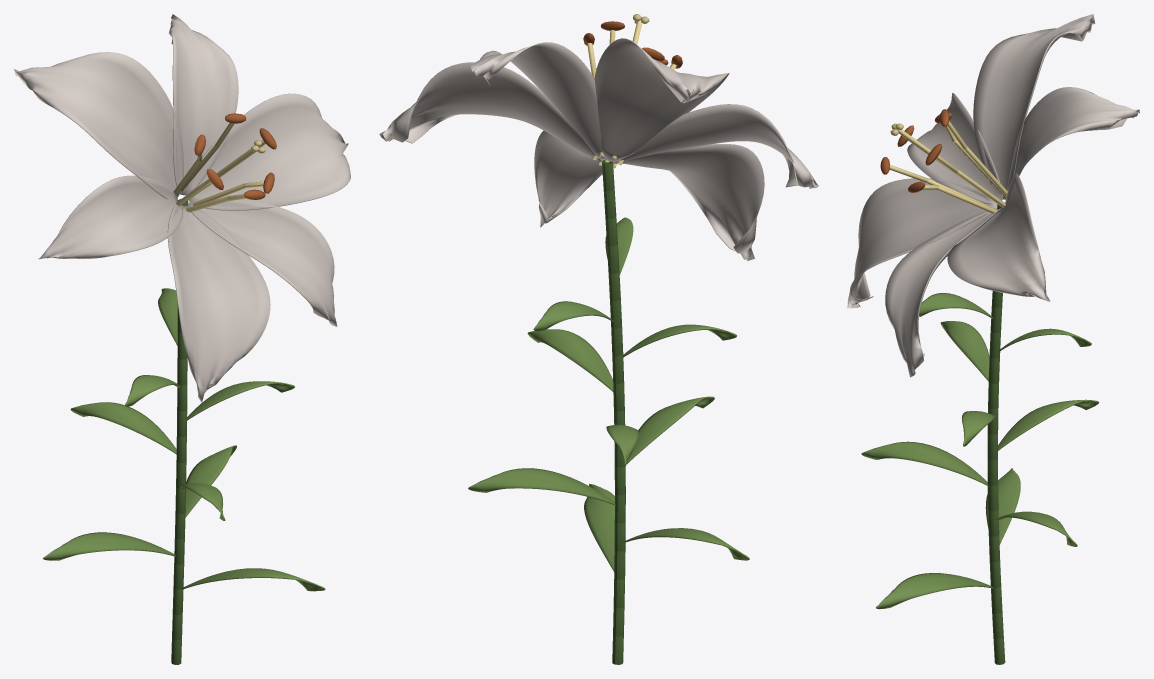
The model's file is true-lily-epic-v2.glb.
3 renders of one model, left to right at view 1: azimuth 30°, elevation 25°; view 2: azimuth 150°, elevation 25°; view 3: azimuth 270°, elevation 25°, orthographic. The views are drawn at different scales.
Visible parts, largest first — view 1: true-lily-epic-v2-petal, true-lily-epic-v2-leaf, true-lily-epic-v2-stem, true-lily-epic-v2-center, true-lily-epic-v2-pollen; view 2: true-lily-epic-v2-petal, true-lily-epic-v2-leaf, true-lily-epic-v2-stem, true-lily-epic-v2-center, true-lily-epic-v2-pollen; view 3: true-lily-epic-v2-petal, true-lily-epic-v2-leaf, true-lily-epic-v2-stem, true-lily-epic-v2-center, true-lily-epic-v2-pollen.
Part boxes in pixels (left/top/right/bottom): true-lily-epic-v2-petal: left=14, top=14, right=350, bottom=402; true-lily-epic-v2-leaf: left=43, top=288, right=325, bottom=591; true-lily-epic-v2-stem: left=171, top=199, right=188, bottom=664; true-lily-epic-v2-center: left=173, top=123, right=265, bottom=212; true-lily-epic-v2-pollen: left=194, top=113, right=276, bottom=199; true-lily-epic-v2-petal: left=379, top=38, right=818, bottom=260; true-lily-epic-v2-leaf: left=468, top=217, right=749, bottom=571; true-lily-epic-v2-stem: left=602, top=159, right=625, bottom=664; true-lily-epic-v2-center: left=587, top=14, right=676, bottom=168; true-lily-epic-v2-pollen: left=583, top=21, right=682, bottom=68; true-lily-epic-v2-petal: left=847, top=14, right=1139, bottom=377; true-lily-epic-v2-leaf: left=861, top=293, right=1098, bottom=609; true-lily-epic-v2-stem: left=987, top=204, right=1005, bottom=664; true-lily-epic-v2-center: left=889, top=121, right=1007, bottom=213; true-lily-epic-v2-pollen: left=880, top=109, right=951, bottom=192.
Size of the model in its own units: 1.42 by 2.29 by 1.
